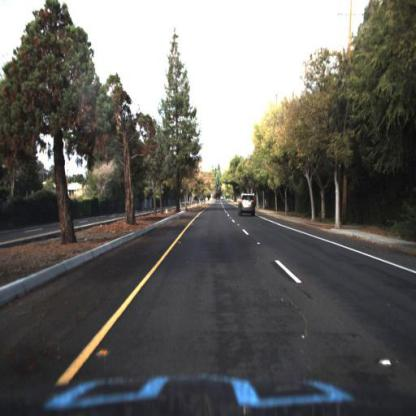car: (239, 193, 258, 219)
